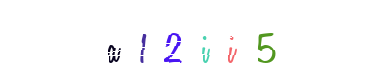1: (125, 0, 205, 80)
2: (152, 0, 232, 80)
5: (210, 0, 290, 80)
A: (73, 0, 153, 80)
I: (155, 0, 235, 80), (191, 0, 271, 80)
